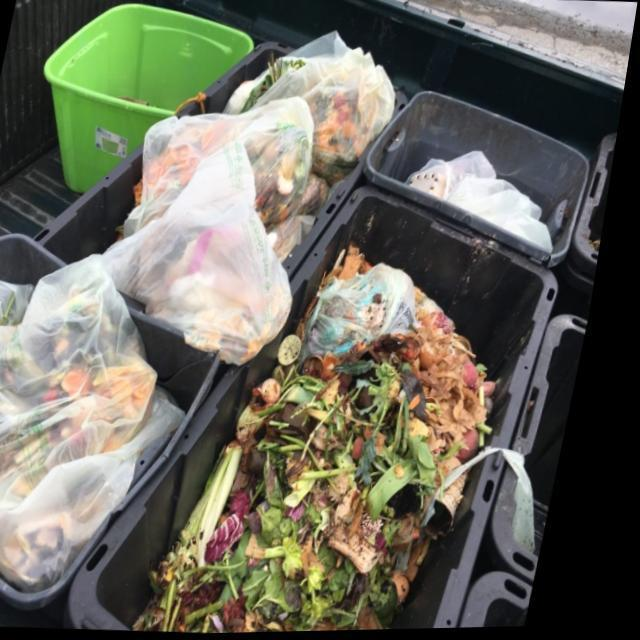Garbage: (156, 245, 509, 634), (112, 35, 398, 365), (0, 256, 198, 592), (415, 154, 559, 248)
Plastic_Bag: (0, 256, 169, 511), (111, 144, 302, 365), (0, 390, 196, 593), (227, 33, 399, 185), (136, 99, 318, 232), (451, 154, 561, 255), (313, 266, 426, 362), (0, 279, 43, 326)
